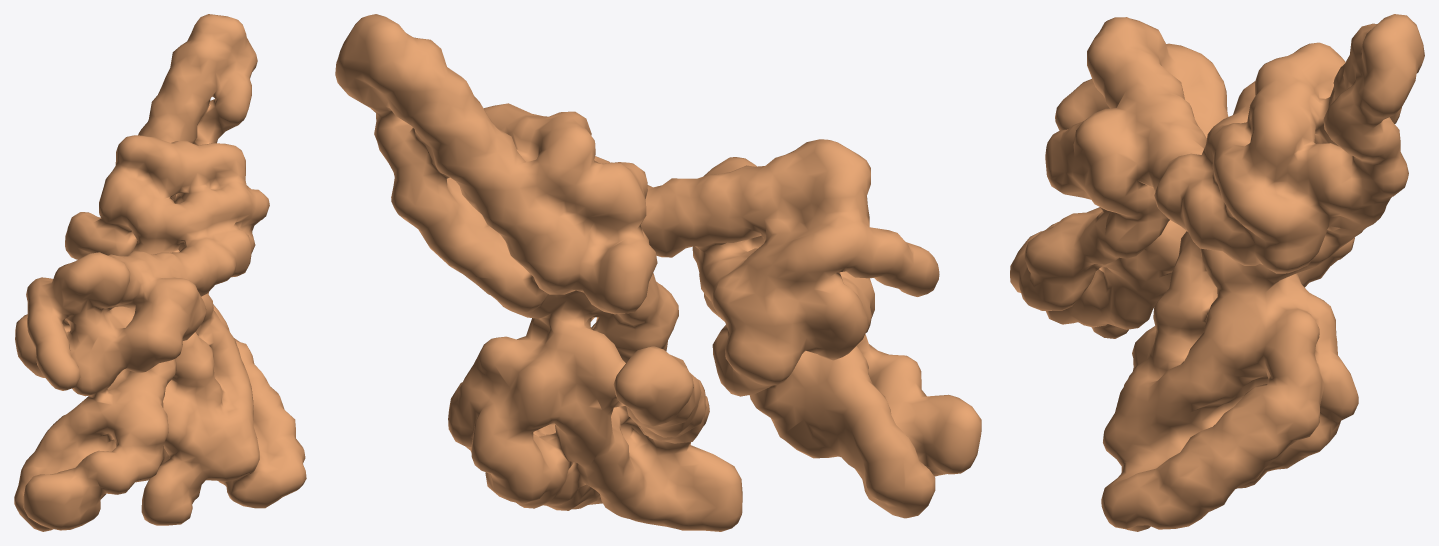
Rendered from rna_erf1_specimen.glb.
3 views of the same model, side by side, from view 1: azimuth 30°, elevation 25°; view 2: azimuth 150°, elevation 25°; view 3: azimuth 270°, elevation 25° (orthographic). The views are drawn at different scales.
Visible parts, largest first — view 1: GEO-eRF1; view 2: GEO-eRF1; view 3: GEO-eRF1.
Boxes of the visible parts, <box> form: GEO-eRF1: <box>14,14,306,531</box>; GEO-eRF1: <box>335,14,981,531</box>; GEO-eRF1: <box>1010,14,1424,531</box>.
Bounding box in the file's own units: 1.94 × 2.19 × 1.51.
